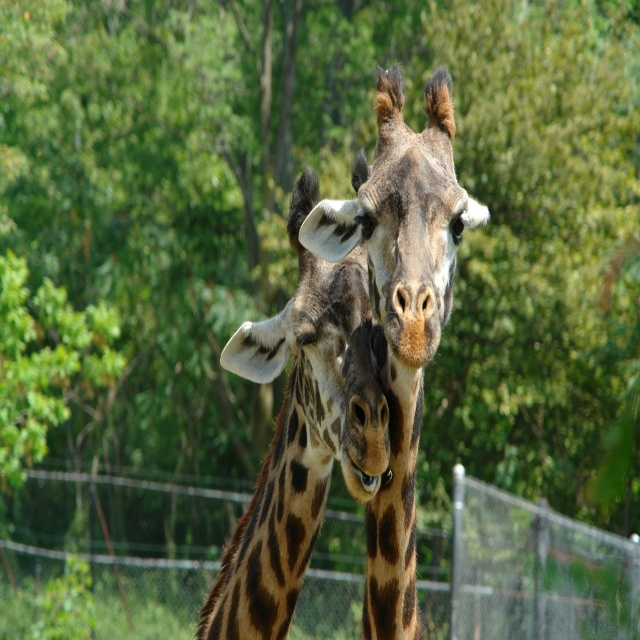Giraffe: (298, 57, 491, 640), (190, 144, 390, 640)
